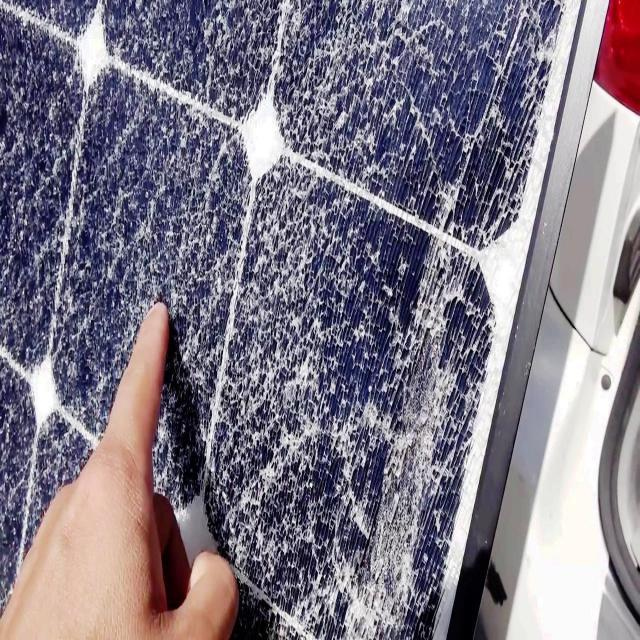faulty: (1, 1, 578, 640)
